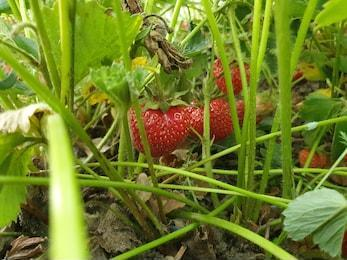Fresa: (127, 92, 194, 160)
